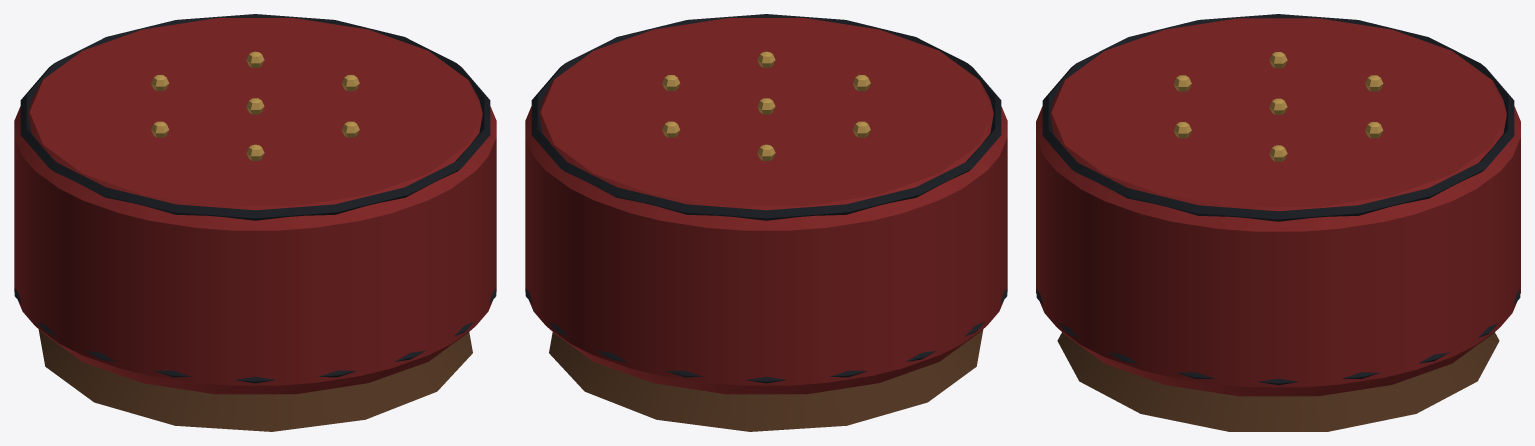
Rendered from couch_ottoman.glb.
The picture shows the model from 3 angles, left to right: view 1: azimuth 30°, elevation 25°; view 2: azimuth 150°, elevation 25°; view 3: azimuth 270°, elevation 25°; orthographic projection.
Visible parts, largest first — view 1: couch_ottoman; view 2: couch_ottoman; view 3: couch_ottoman.
Part boxes in pixels (<box>): couch_ottoman: <box>14,14,496,431</box>; couch_ottoman: <box>525,14,1007,431</box>; couch_ottoman: <box>1036,14,1520,431</box>.
Bounding box in the file's own units: 0.8 × 0.435 × 0.7896.
